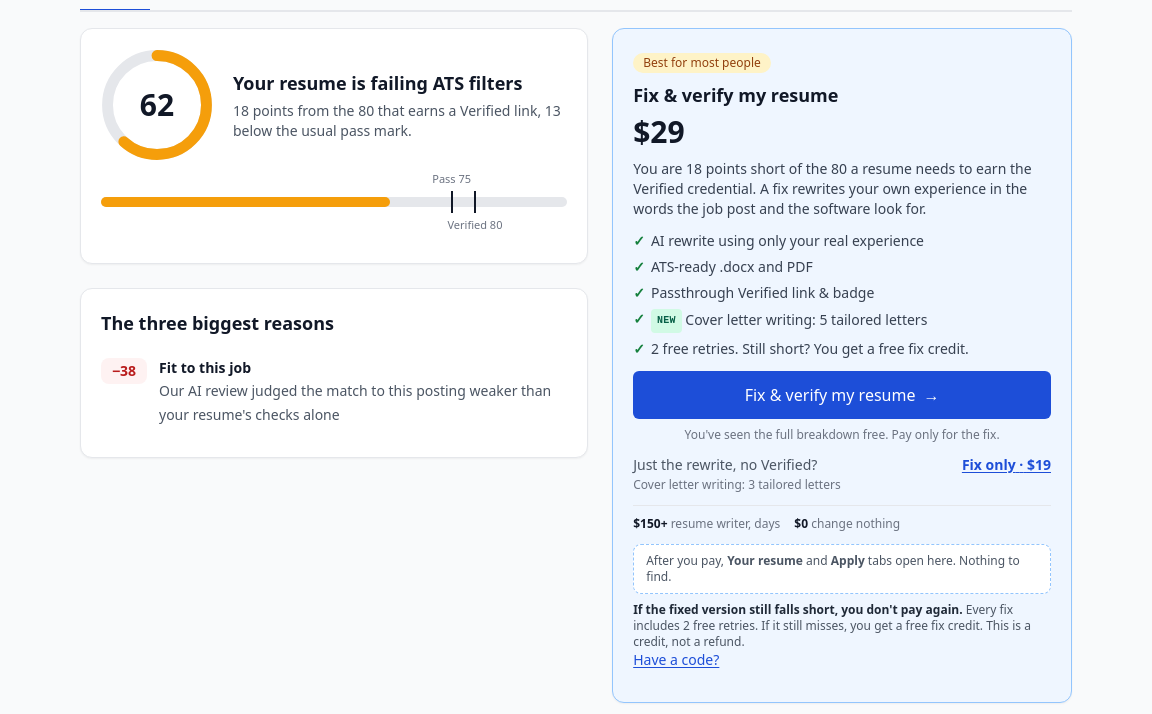
Test: payment flows › unverified email: message, resend, and the buy buttons recover
(page scrolled)
What coordinates should you click on to do the following:
click the button "Fix & verify my resume →"
I would click on:
 (842, 395)
Its box is [633, 371, 1051, 419].
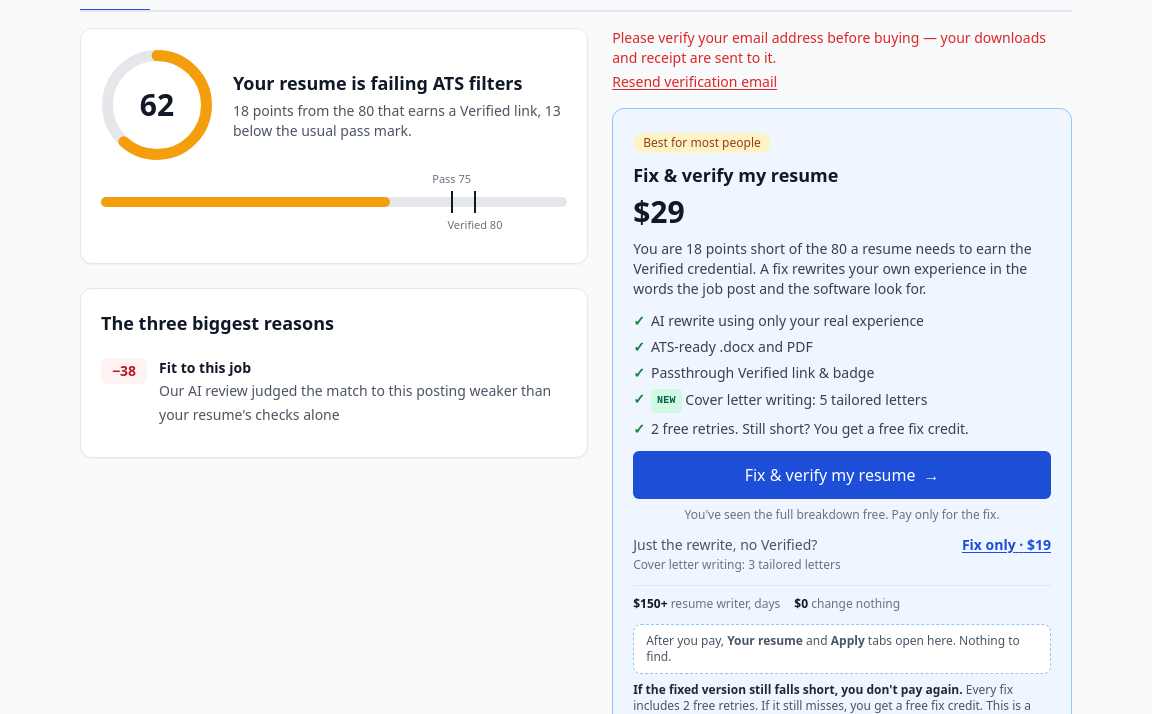
Expected: the text "Please verify your email address before buying" is shown, [612, 28, 1046, 67]
What coordinates should you click on to do the following:
click the button "Resend verification email"
I would click on:
 (695, 82)
Its box is [612, 72, 777, 92].
(page scrolled)
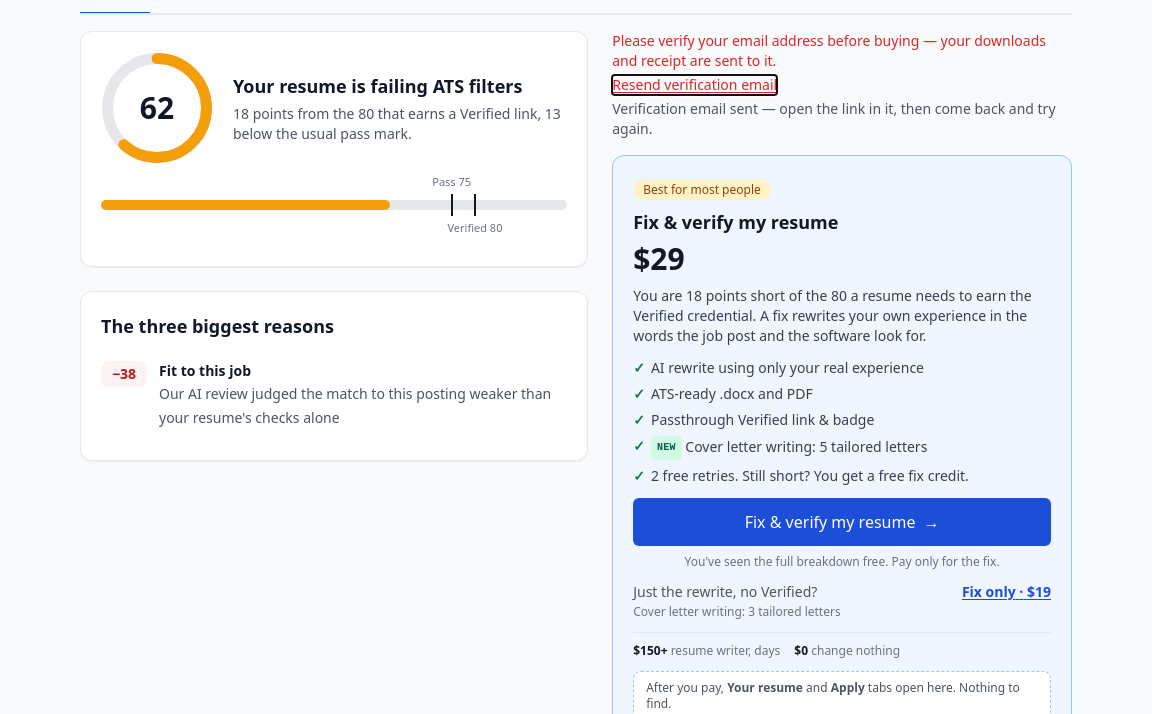
Expected: the text "Verification email sent" is shown, [612, 99, 1056, 138]
